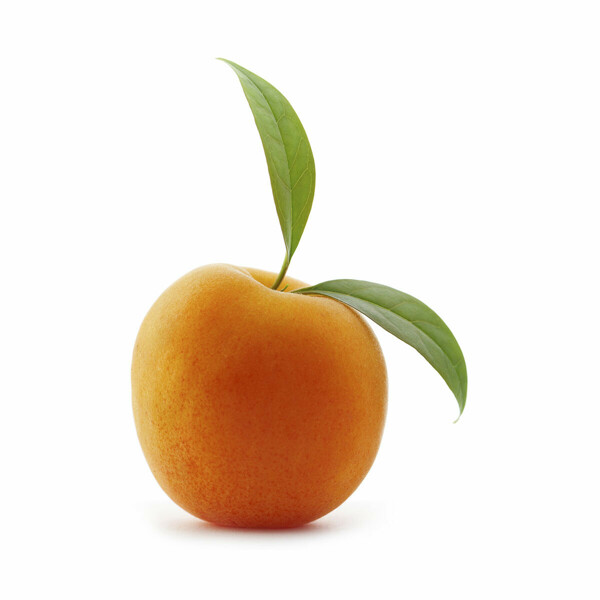Apricot: (121, 259, 419, 539)
